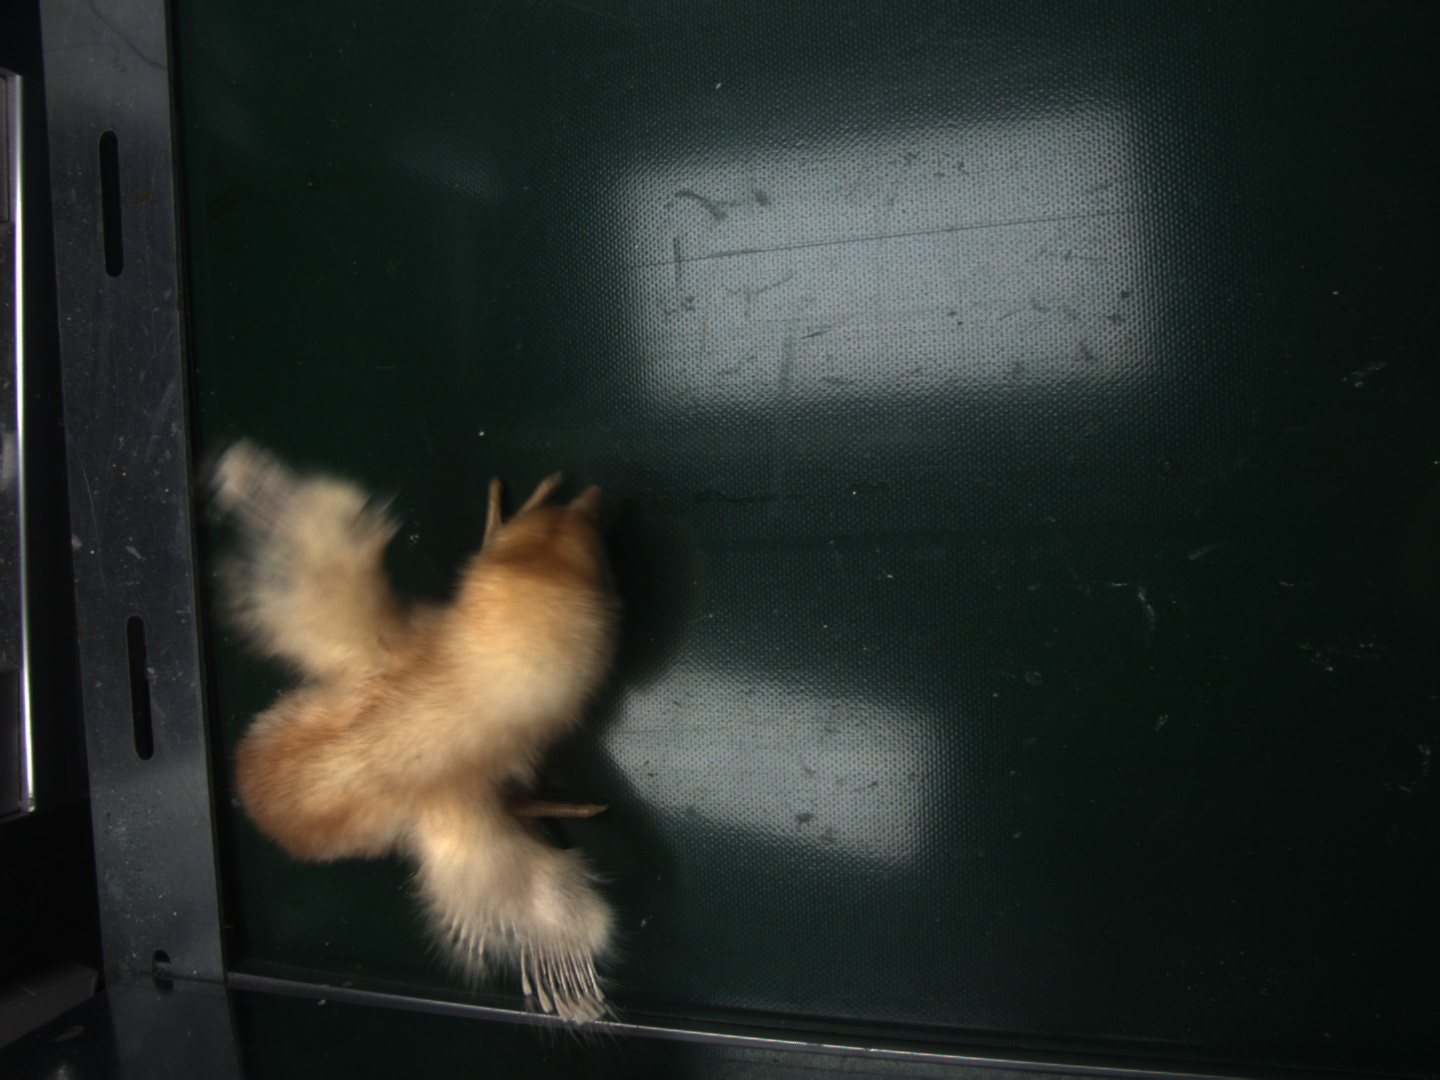female: (516, 940, 612, 1026)
